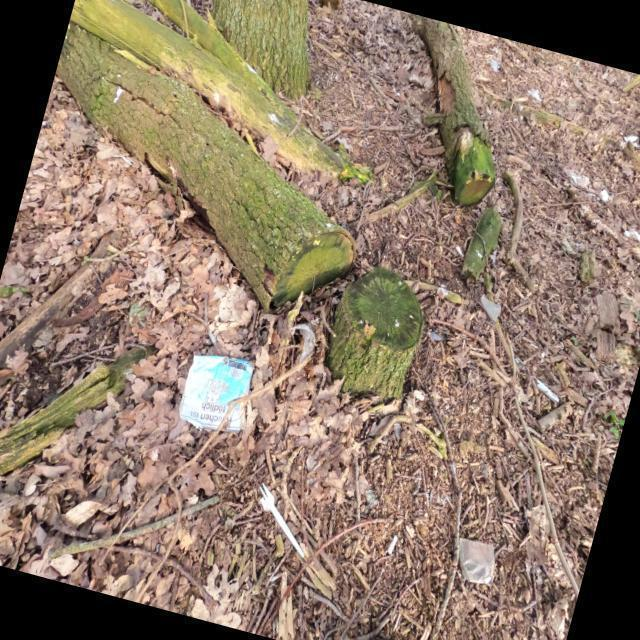Paper: (177, 352, 256, 434)
